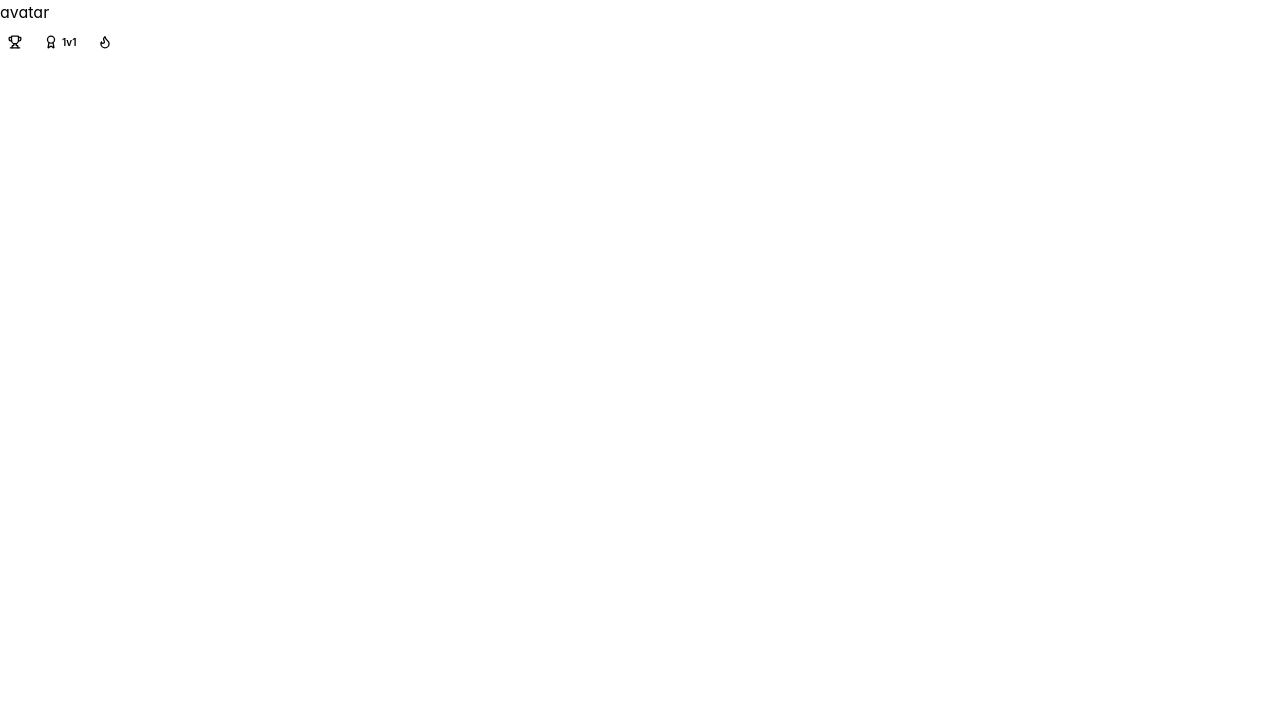
Scenario: RecordBadges › opens the legend from any chip: only the held records, label + explainer, the row navigates
Any chip opens it — the last one here, to prove it is not the first chip's job alone.
Click the button named "Win streak: record holder, current run. Show what the badges" at (105, 42), box [90,28,120,56]
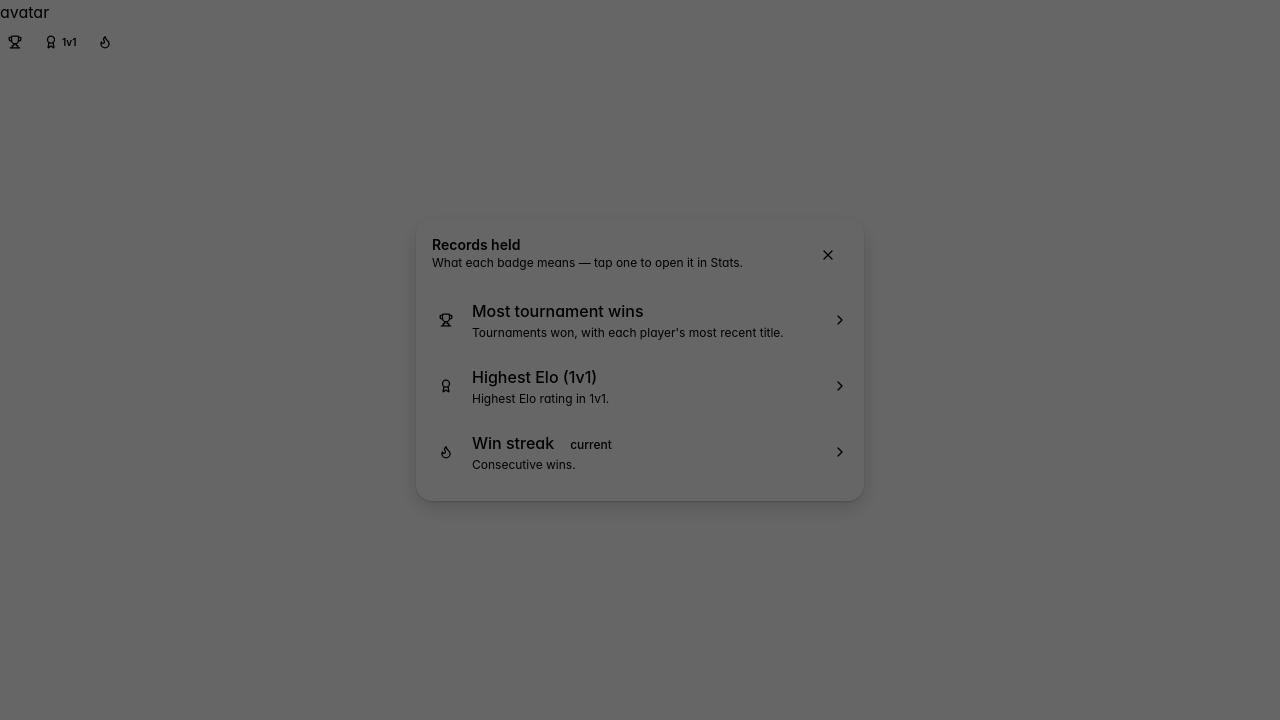
Result: the element that starts with "Most tournament wins" is shown at [432,287,848,485]
Result: the text "Records held" is shown at [432,236,520,253]
Result: the number of links is 3 at [432,287,848,353]; [432,353,848,419]; [432,419,848,485]
